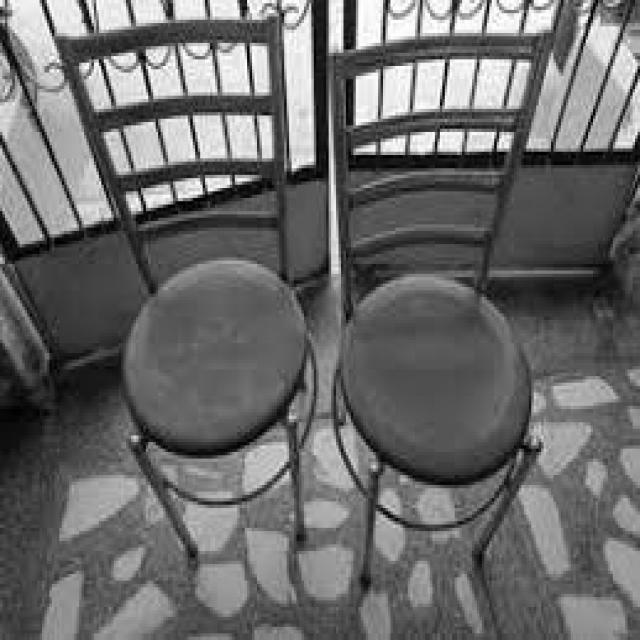chair: (54, 12, 321, 566), (327, 24, 558, 598)
